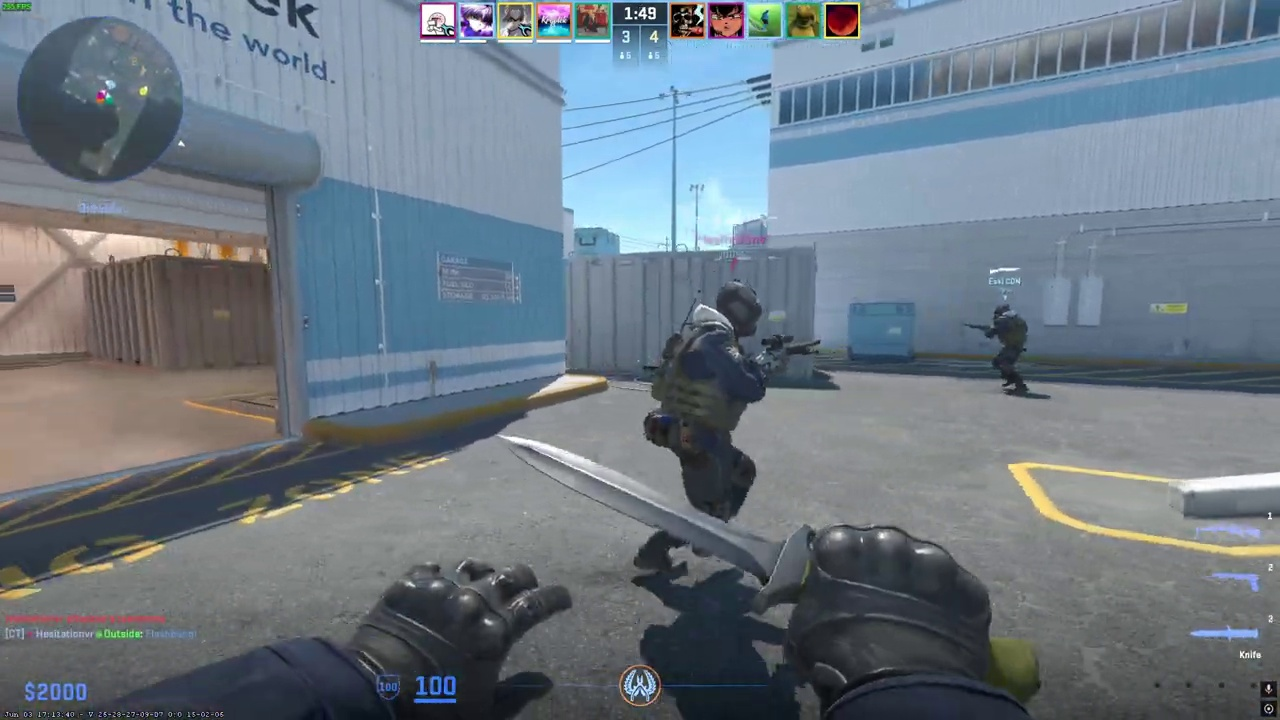CT: (647, 279, 773, 571), (987, 303, 1028, 393)
